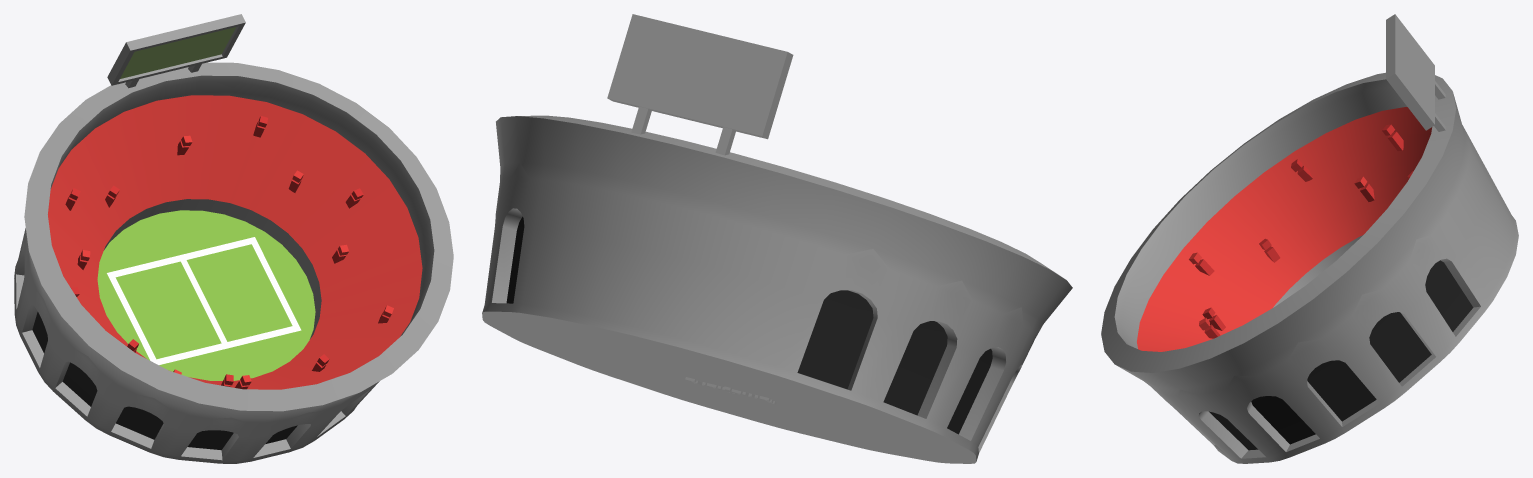
Rendered from stadium.glb.
3 views of the same model, side by side, from view 1: azimuth 30°, elevation 25°; view 2: azimuth 150°, elevation 25°; view 3: azimuth 270°, elevation 25° (orthographic). The views are drawn at different scales.
Parts seen in each view (by area): view 1: Circle.2343; view 2: Circle.2343; view 3: Circle.2343.
Boxes of the visible parts, box(x1,y1,x2,y2) form: Circle.2343: box(14, 14, 453, 463); Circle.2343: box(482, 14, 1072, 463); Circle.2343: box(1101, 14, 1518, 463).
Bounding box in the file's own units: 2.2 × 1.94 × 1.9.
1 material, 1 textured.
